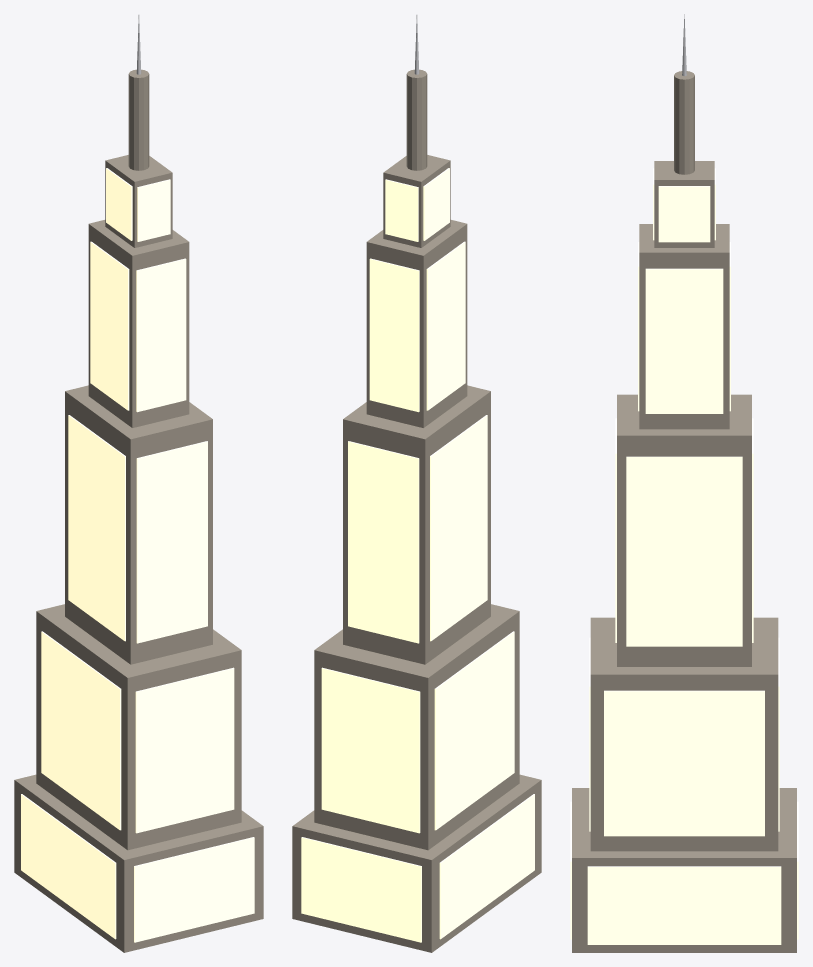
The model's file is empirestate.glb.
3 renders of one model, left to right at view 1: azimuth 30°, elevation 25°; view 2: azimuth 150°, elevation 25°; view 3: azimuth 270°, elevation 25°, orthographic. The views are drawn at different scales.
Visible parts, largest first — view 1: esb_w1-1, esb_t1, esb_w2-1, esb_v1-1, esb_t2, esb_v2-1, esb_t0, esb_w0-1, esb_v0-1, esb_w3-1, esb_t3, esb_v3-1 (+4 smaller); view 2: esb_w11, esb_t1, esb_w21, esb_v1-1, esb_t2, esb_v2-1, esb_t0, esb_w01, esb_v0-1, esb_w31, esb_t3, esb_v3-1 (+4 smaller); view 3: esb_v11, esb_v21, esb_v01, esb_t1, esb_t2, esb_v31, esb_t0, esb_t3, esb_v41, esb_t4, esb_mast.
Boxes of the visible parts, x1,y1,x2,y2 form: esb_w1-1: (135, 667, 234, 833); esb_t1: (36, 604, 241, 850); esb_w2-1: (136, 441, 207, 643); esb_v1-1: (41, 631, 121, 830); esb_t2: (65, 385, 212, 664); esb_v2-1: (68, 415, 125, 641); esb_t0: (14, 774, 263, 952); esb_w0-1: (134, 837, 254, 942); esb_v0-1: (21, 794, 116, 939); esb_w3-1: (136, 258, 186, 412); esb_t3: (88, 220, 189, 427); esb_v3-1: (90, 241, 129, 410); esb_w11: (321, 667, 420, 833); esb_t1: (314, 604, 519, 850); esb_w21: (348, 441, 419, 643); esb_v1-1: (434, 631, 514, 830); esb_t2: (343, 385, 490, 664); esb_v2-1: (430, 415, 487, 641); esb_t0: (292, 774, 541, 952); esb_w01: (301, 837, 421, 942); esb_v0-1: (439, 794, 534, 939); esb_w31: (369, 258, 419, 412); esb_t3: (366, 220, 467, 427); esb_v3-1: (426, 241, 465, 410); esb_v11: (604, 690, 764, 836); esb_v21: (626, 456, 742, 646); esb_v01: (587, 866, 781, 944); esb_t1: (590, 617, 778, 851); esb_t2: (617, 394, 751, 666); esb_v31: (645, 268, 723, 413); esb_t0: (572, 788, 796, 952); esb_t3: (639, 224, 729, 429); esb_v41: (658, 186, 710, 242); esb_t4: (654, 161, 714, 247); esb_mast: (674, 71, 694, 174).
Bounding box in the file's own units: 22.4 × 133 × 30.4.
